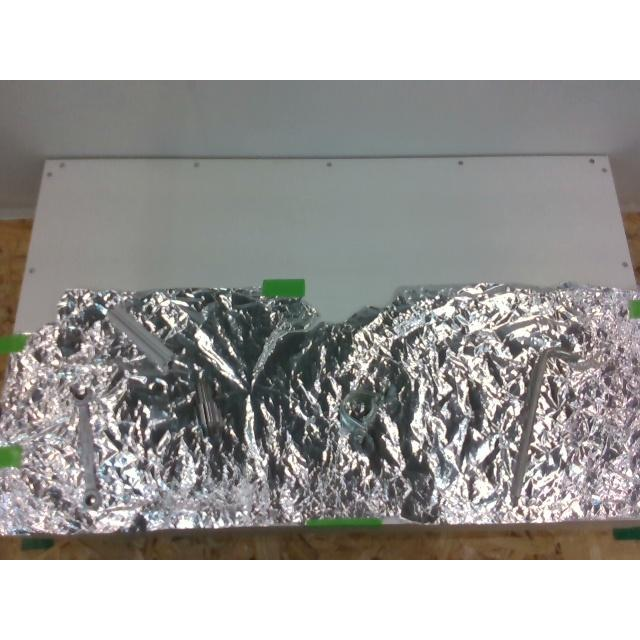AllenKey: (510, 348, 578, 508)
Axis2: (195, 369, 225, 435)
F20_20_G: (106, 304, 172, 368)
Housing: (338, 386, 382, 442)
Wrench: (71, 386, 99, 506)
